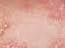plaque psoriasis: (35, 0, 65, 24), (0, 39, 25, 48), (47, 38, 65, 48)
